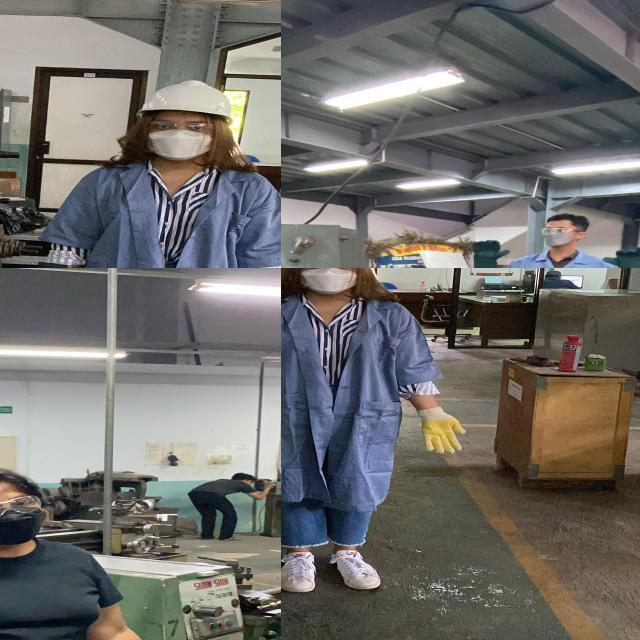face_mask: (140, 114, 215, 164), (0, 491, 44, 542), (295, 268, 361, 293), (539, 226, 576, 248)
glasses: (0, 492, 48, 520), (145, 119, 220, 136), (537, 225, 587, 236), (293, 268, 364, 274)
hand_glove: (416, 408, 469, 455), (464, 236, 512, 262), (596, 244, 640, 268)
head_helmet: (134, 78, 235, 122)
head_nohelmet: (0, 461, 33, 504), (542, 211, 592, 227)
person: (281, 268, 486, 598), (17, 77, 281, 268), (0, 464, 244, 640), (465, 212, 640, 268)
shoes: (323, 542, 384, 594), (281, 546, 324, 597)
